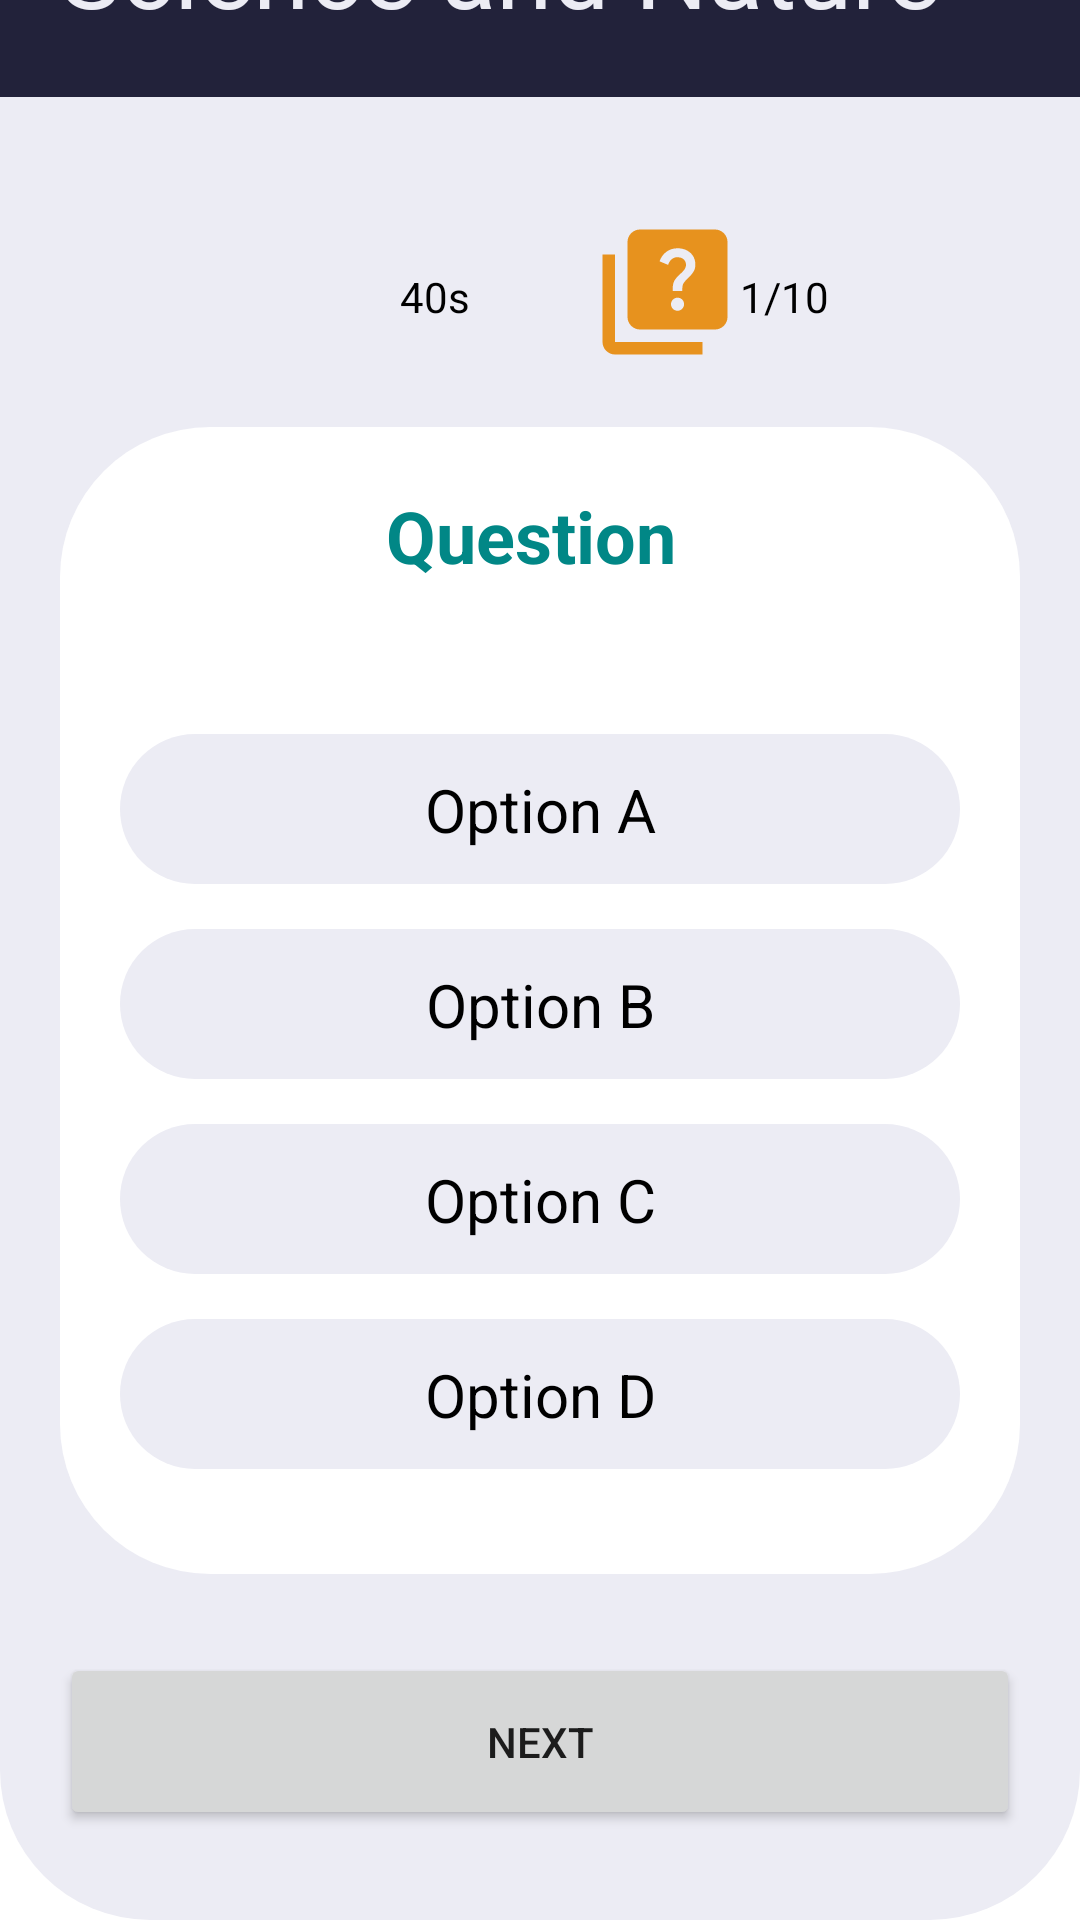

Icons on this 1080*1920 Android screen, each with its box as box=[x1, y1, x2, y2]:
quiz: box=[602, 229, 728, 355]
